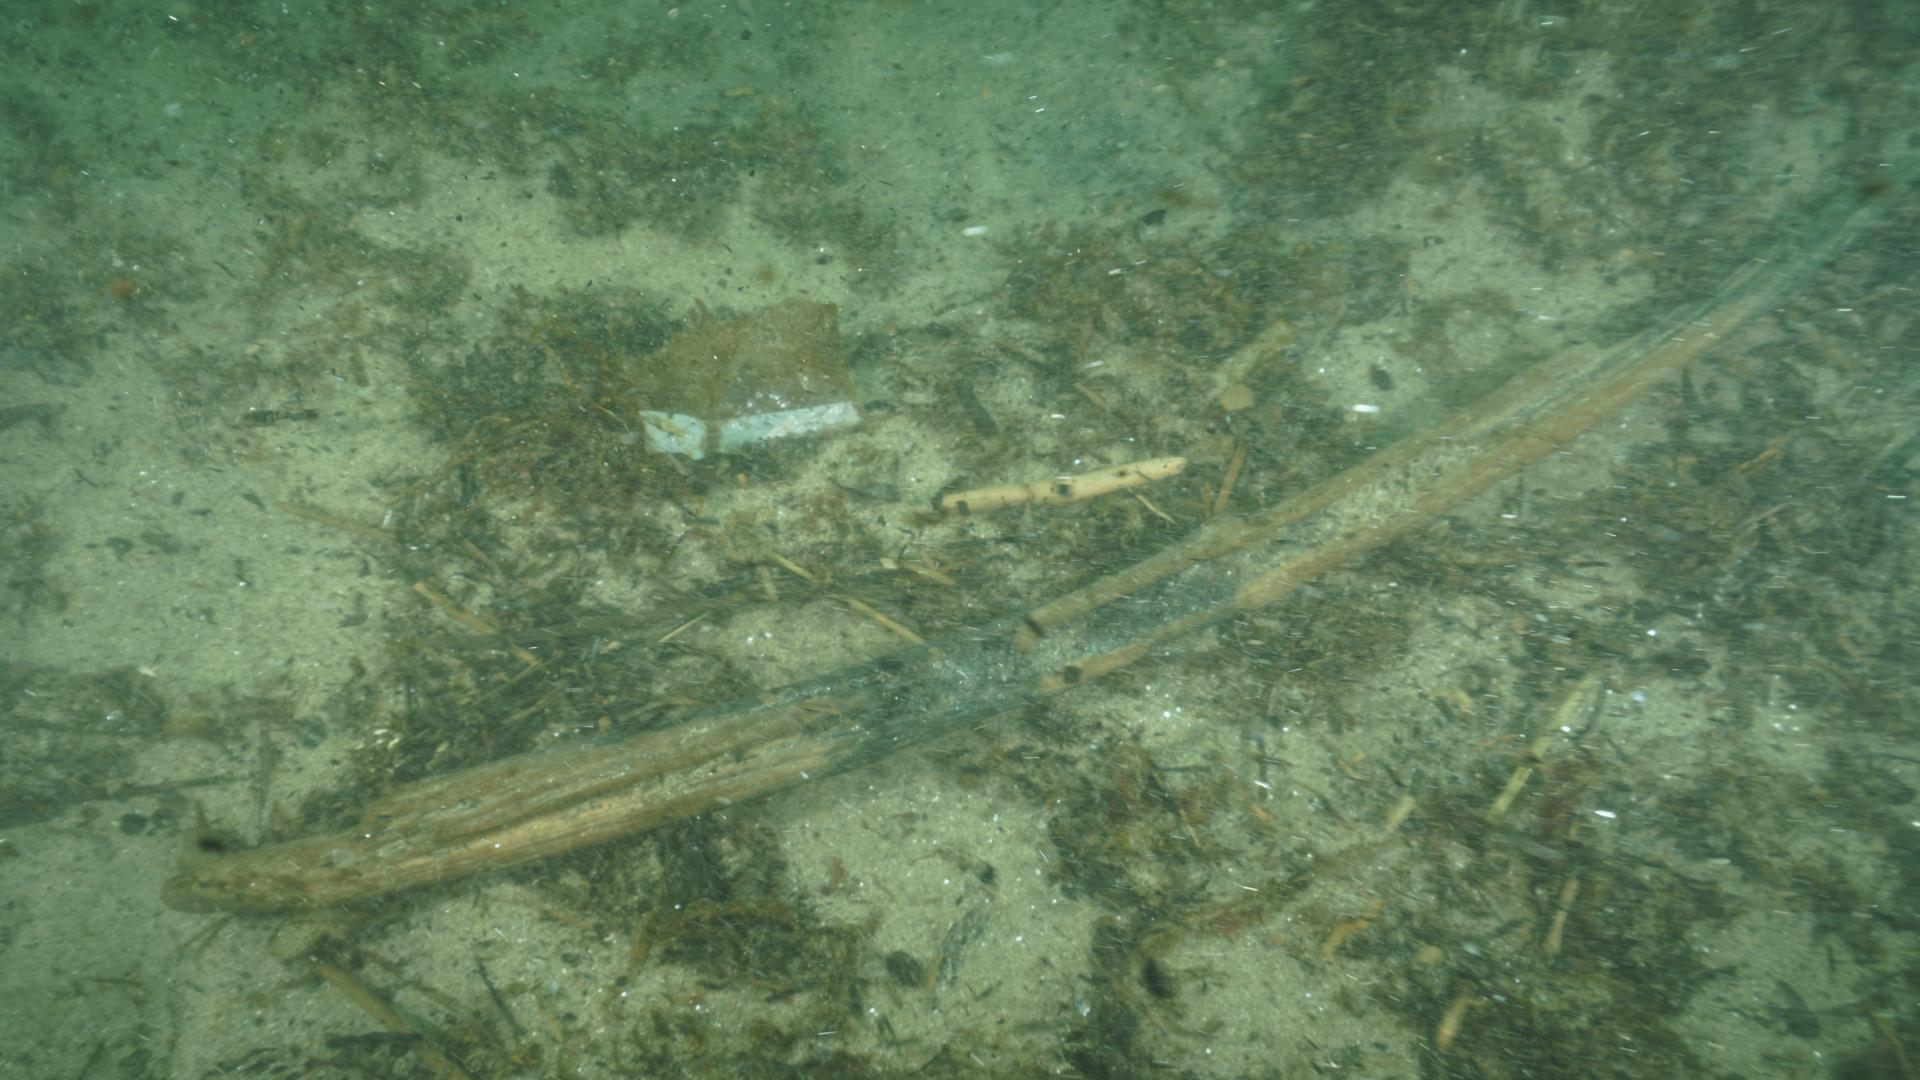wood: (158, 149, 1920, 915)
